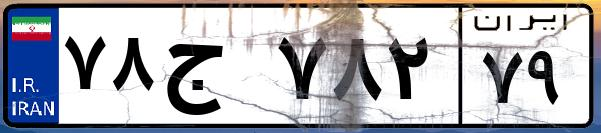2: (385, 28, 445, 110)
7: (270, 28, 330, 110), (57, 26, 110, 100), (475, 38, 525, 113)
8: (330, 28, 385, 110), (110, 28, 158, 98)
9: (525, 38, 570, 115)
ج: (158, 20, 270, 120)
